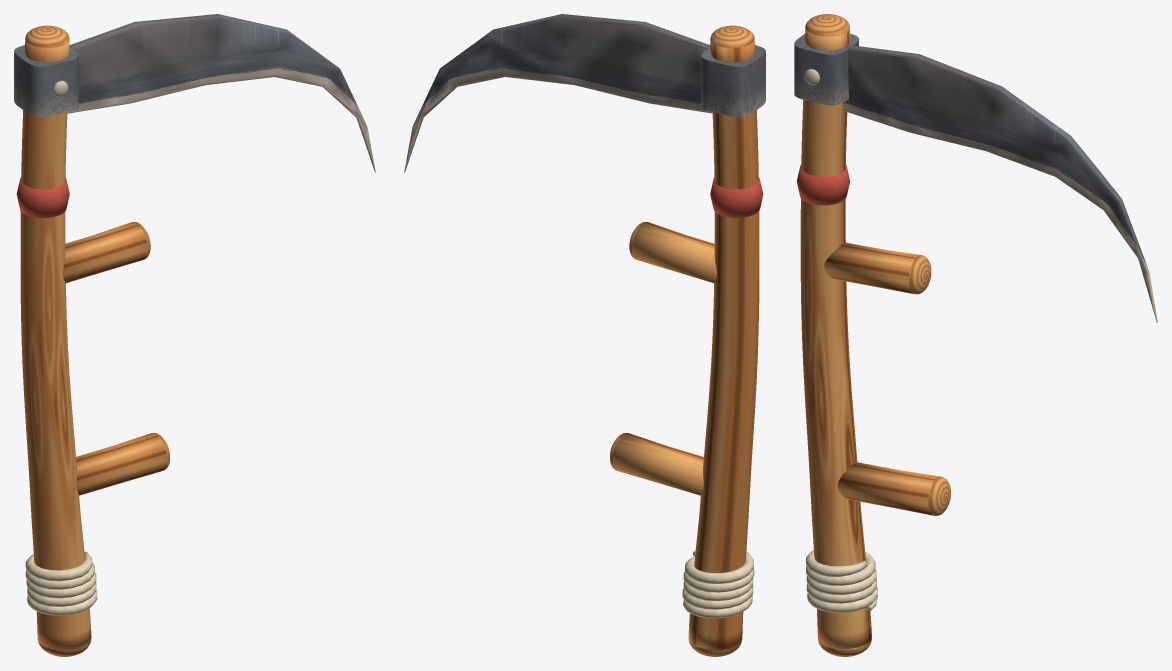
File: scythe.glb
3 views of the same model, side by side, from view 1: azimuth 30°, elevation 25°; view 2: azimuth 150°, elevation 25°; view 3: azimuth 330°, elevation 25° (orthographic).
Visible parts, largest first — view 1: model; view 2: model; view 3: model.
Boxes of the visible parts, x1,y1,x2,y2 form: model: [14, 14, 375, 656]; model: [404, 14, 765, 656]; model: [794, 14, 1157, 656].
Bounding box in the file's own units: 0.5172 × 0.873 × 0.0886.
Materials: 7 (6 with a texture image).
